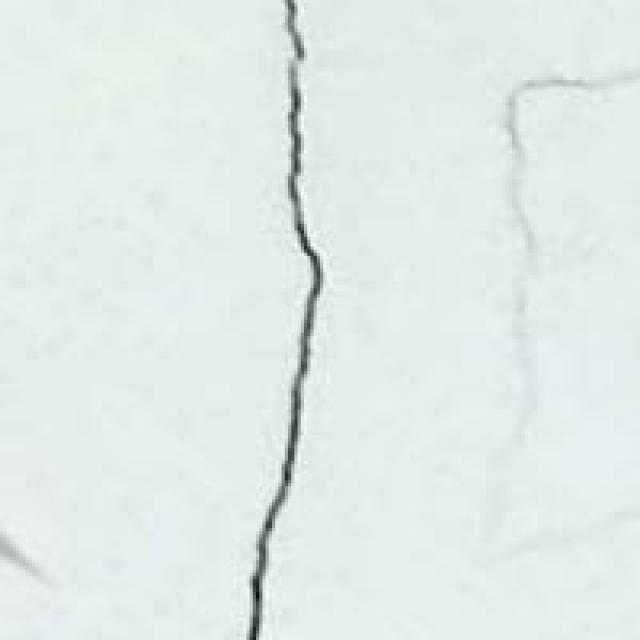crack: (227, 0, 365, 637)
